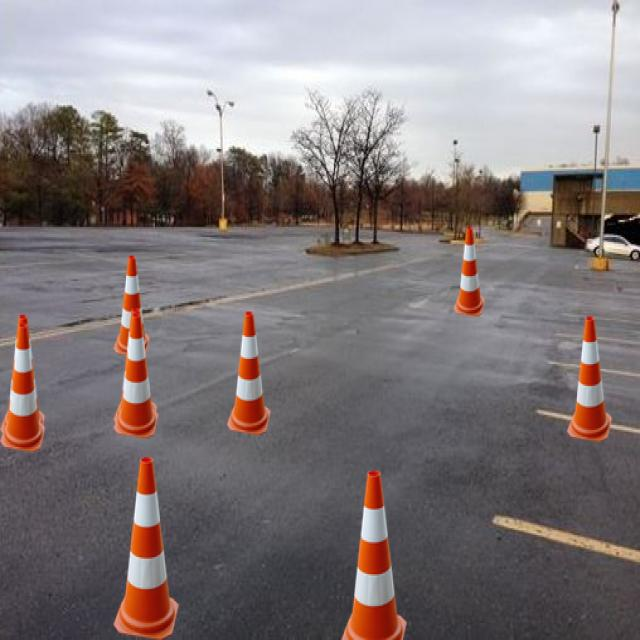large_orange_cone: (113, 457, 179, 640), (340, 470, 407, 640), (113, 313, 159, 439), (0, 323, 45, 451), (0, 314, 45, 440), (567, 317, 612, 442), (227, 312, 271, 435), (114, 308, 158, 430), (113, 256, 150, 357), (454, 227, 485, 316)
